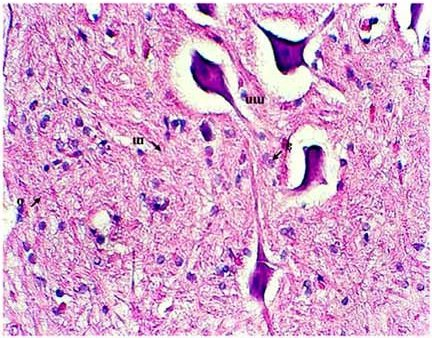neuron: (298, 142, 335, 194)
